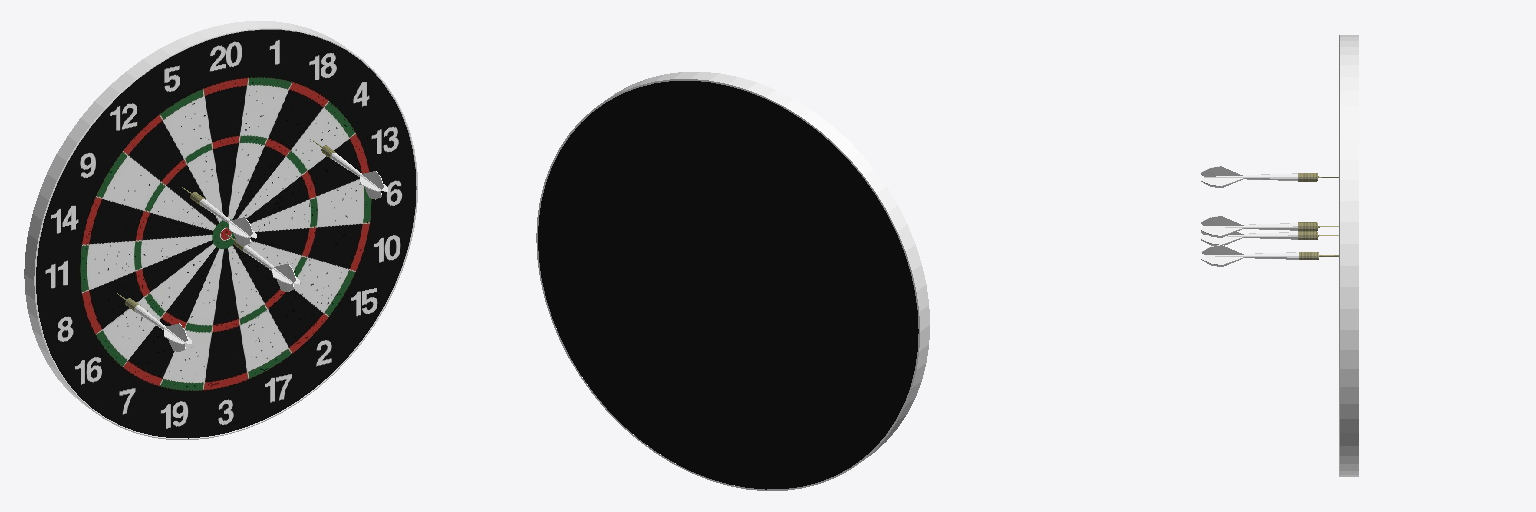
The picture shows the model from 3 angles: view 1: azimuth 30°, elevation 25°; view 2: azimuth 150°, elevation 25°; view 3: azimuth 270°, elevation 25°; orthographic projection.
Visible parts, largest first — view 1: dardos; view 2: dardos; view 3: dardos.
Part boxes in pixels (x1,y1,x2,y2): dardos: (24, 21, 417, 439); dardos: (536, 72, 929, 490); dardos: (1201, 35, 1358, 476).
Bounding box in the file's own units: 4.54 × 4.54 × 1.63.
1 materials, 1 textured.